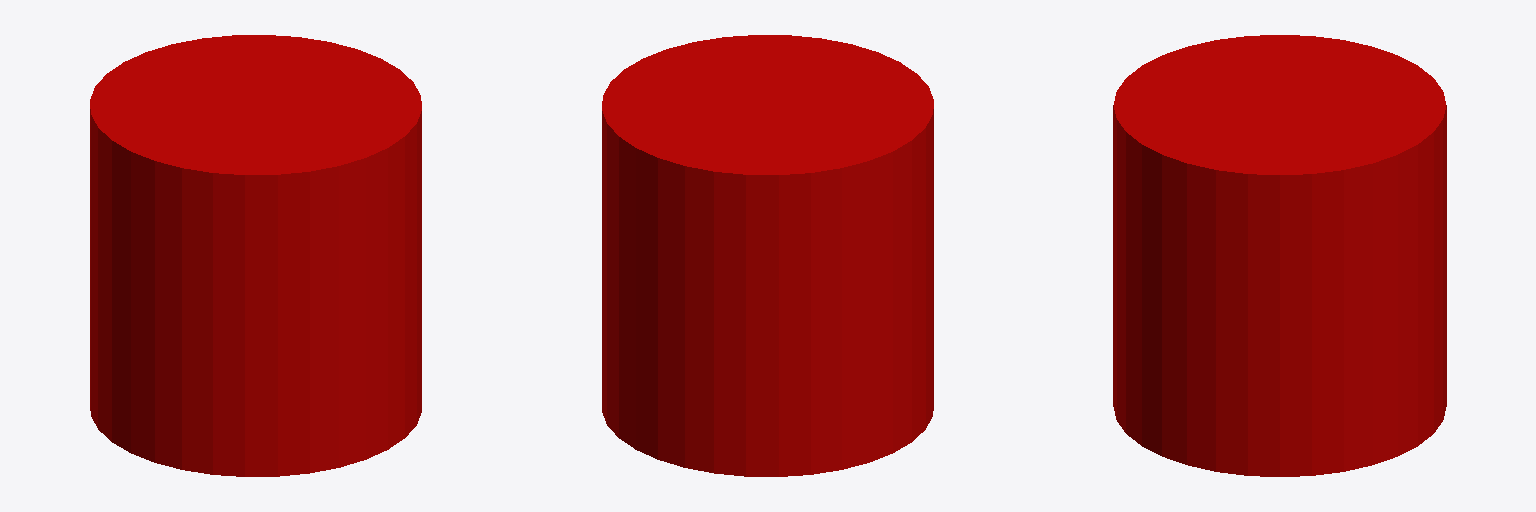
File: GiantsHome1_Key.obj
3 views of the same model, side by side, from view 1: azimuth 30°, elevation 25°; view 2: azimuth 150°, elevation 25°; view 3: azimuth 270°, elevation 25° (orthographic).
Visible parts, largest first — view 1: Cylinder.003; view 2: Cylinder.003; view 3: Cylinder.003.
Part boxes in pixels (bbox=[...]): Cylinder.003: bbox=[90, 35, 421, 476]; Cylinder.003: bbox=[602, 35, 933, 476]; Cylinder.003: bbox=[1113, 35, 1446, 476].
Size of the model in its own units: 1.02 by 1.02 by 1.02.